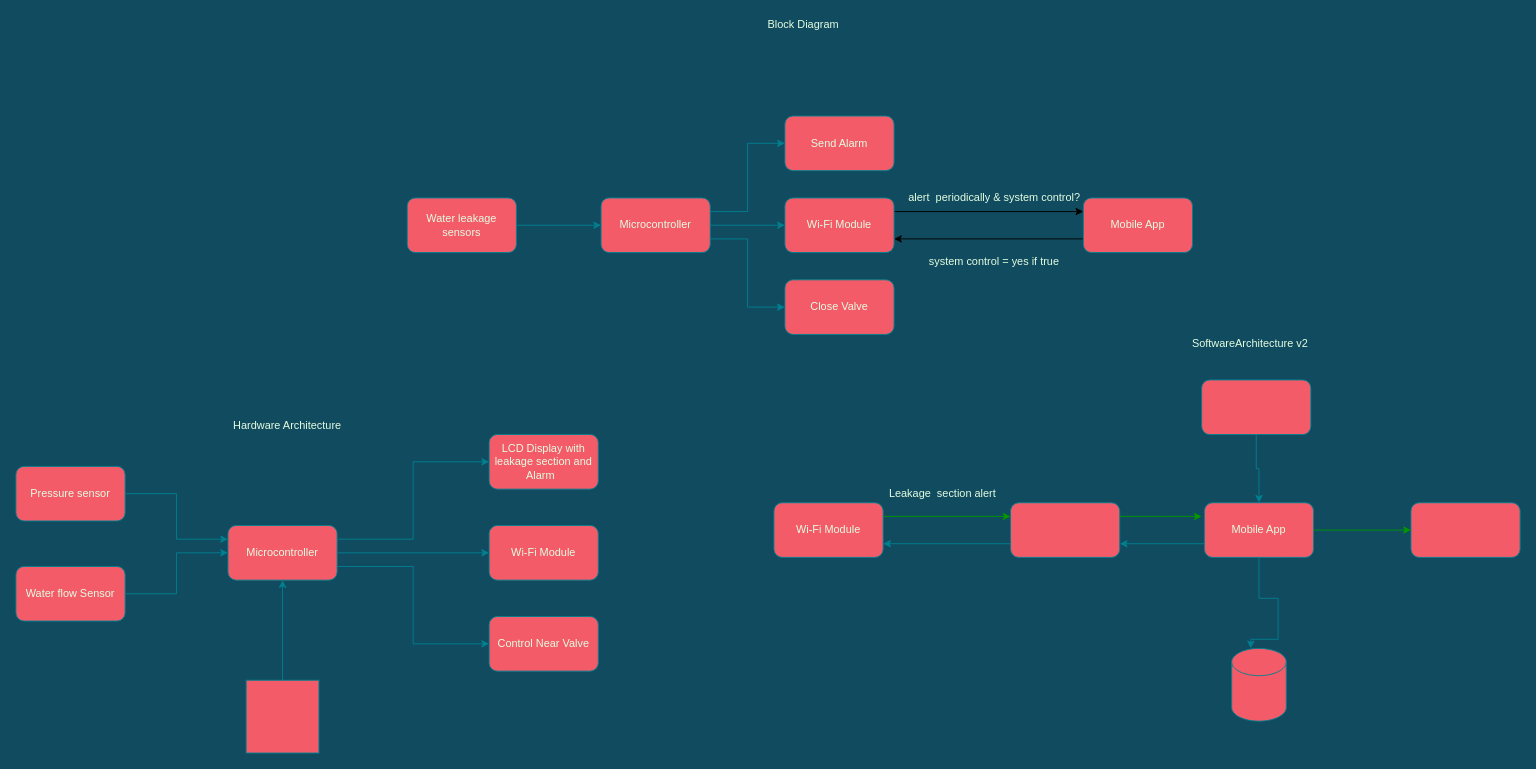
The diagram is 1536 pixels wide and 769 high, and some of its shapes have lost their labels. The centre of each missing label's shape, as x and y in pixels:
Communication Module: (x=1065, y=529)
DB: (x=1258, y=684)
Power Supply: (x=282, y=716)
Trigger Alert: (x=1465, y=529)
User select to close the valves or not ?: (x=1256, y=407)
